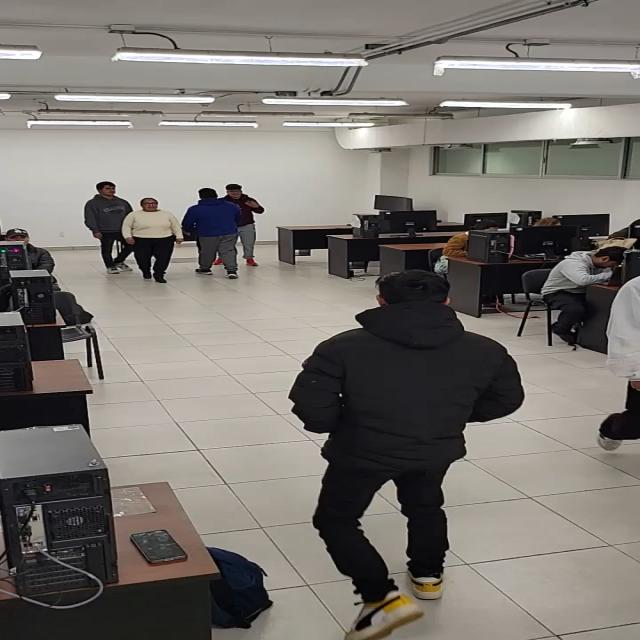Persona: (287, 270, 531, 640), (182, 188, 243, 280), (121, 197, 184, 285), (85, 181, 136, 276), (212, 184, 265, 268)
